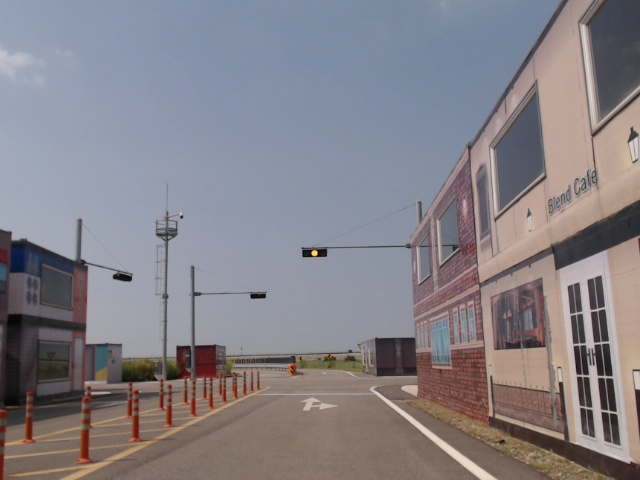orange_3: (302, 247, 328, 258)
